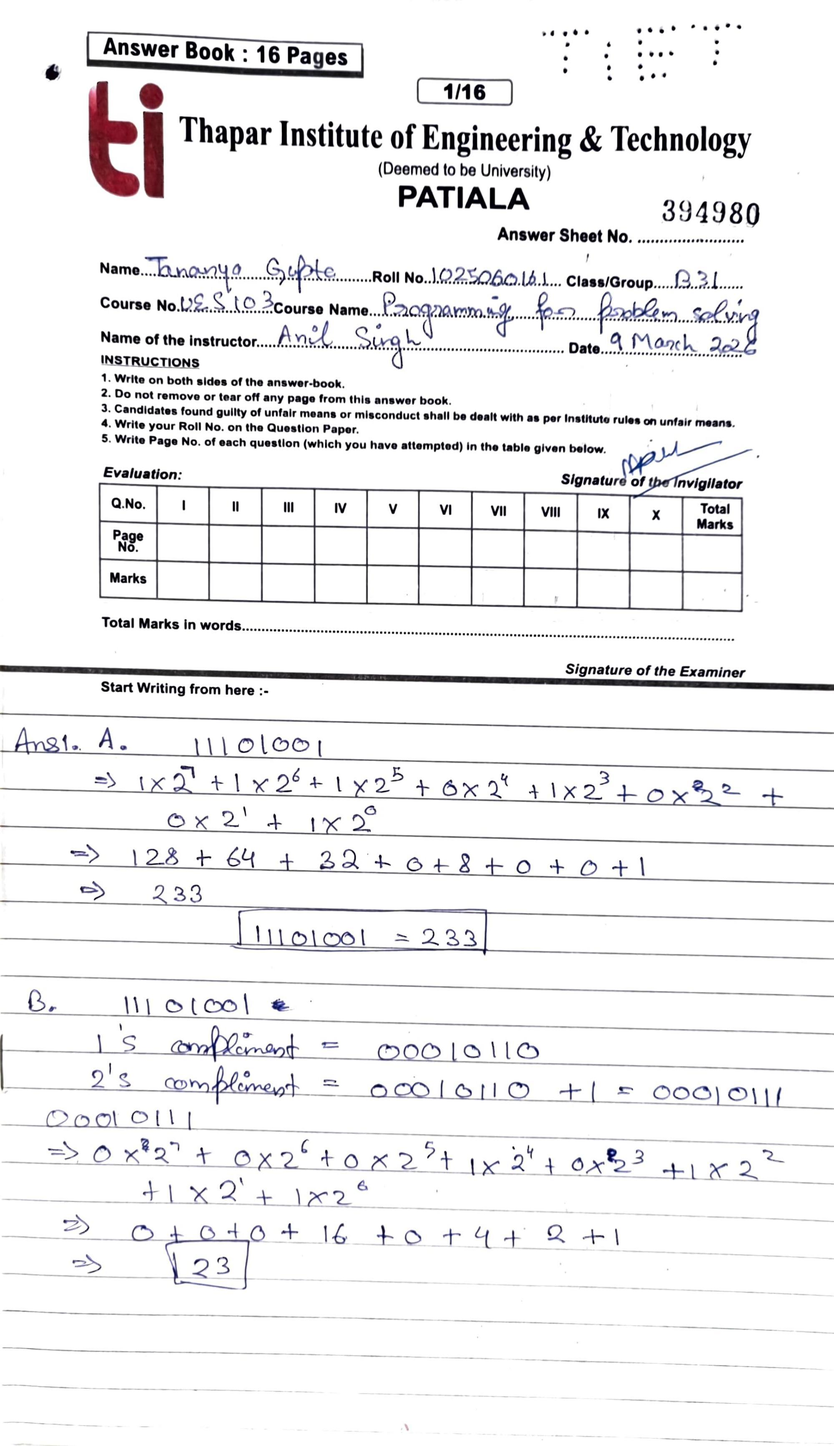cuttings: (270, 998, 295, 1012), (691, 779, 705, 793), (606, 1147, 617, 1164), (140, 1137, 150, 1154)
